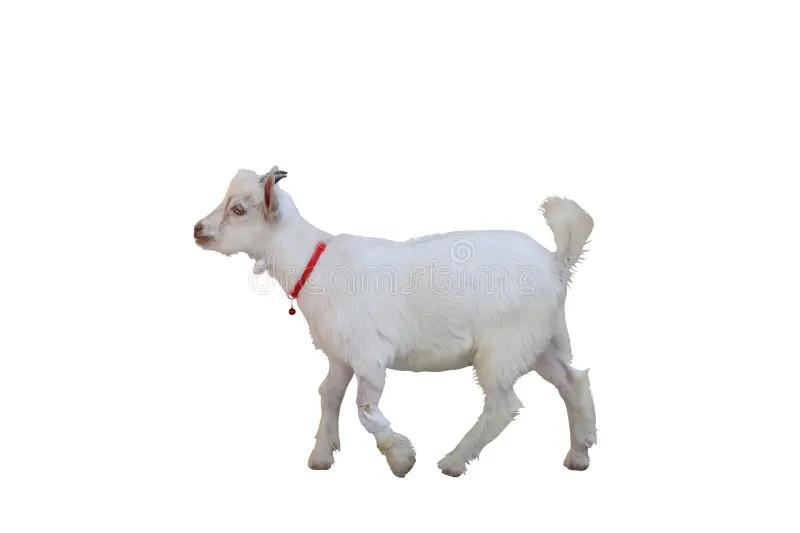fracture: (330, 348, 435, 489)
